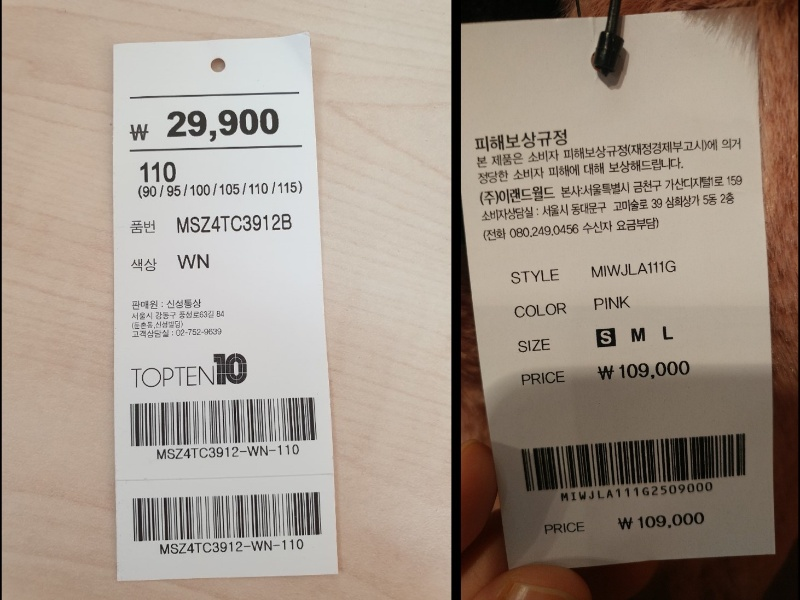tag: (460, 7, 776, 572), (112, 29, 339, 583)
text: (477, 138, 743, 241), (129, 350, 249, 388), (129, 295, 229, 340), (164, 106, 280, 140), (158, 535, 306, 558), (152, 443, 303, 461), (135, 181, 304, 197), (173, 213, 294, 235), (592, 359, 693, 384), (558, 483, 712, 499), (614, 509, 709, 534), (592, 322, 678, 349), (471, 128, 571, 150), (586, 259, 680, 280), (513, 300, 570, 320), (509, 265, 563, 286), (518, 367, 568, 388), (139, 159, 178, 184), (590, 293, 634, 313), (544, 520, 590, 538), (175, 251, 212, 271), (516, 335, 552, 354), (128, 215, 159, 236), (130, 256, 159, 275)
